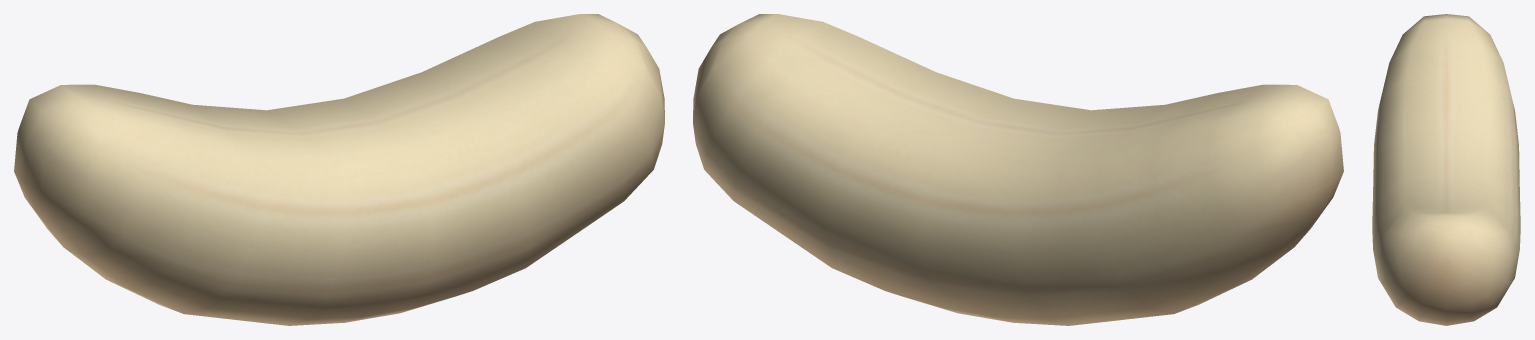
File: Restaurant_Ice cream_Peeled bananas.FBX
3 views of the same model, side by side, from view 1: azimuth 30°, elevation 25°; view 2: azimuth 150°, elevation 25°; view 3: azimuth 270°, elevation 25° (orthographic). The views are drawn at different scales.
Parts seen in each view (by area): view 1: polySurface259411111; view 2: polySurface259411111; view 3: polySurface259411111.
Part boxes in pixels (x1=…): polySurface259411111: x1=14, y1=14, x2=664, y2=325; polySurface259411111: x1=693, y1=14, x2=1343, y2=325; polySurface259411111: x1=1372, y1=14, x2=1520, y2=325.
Size of the model in its own units: 6.22 by 2.66 by 1.99.
